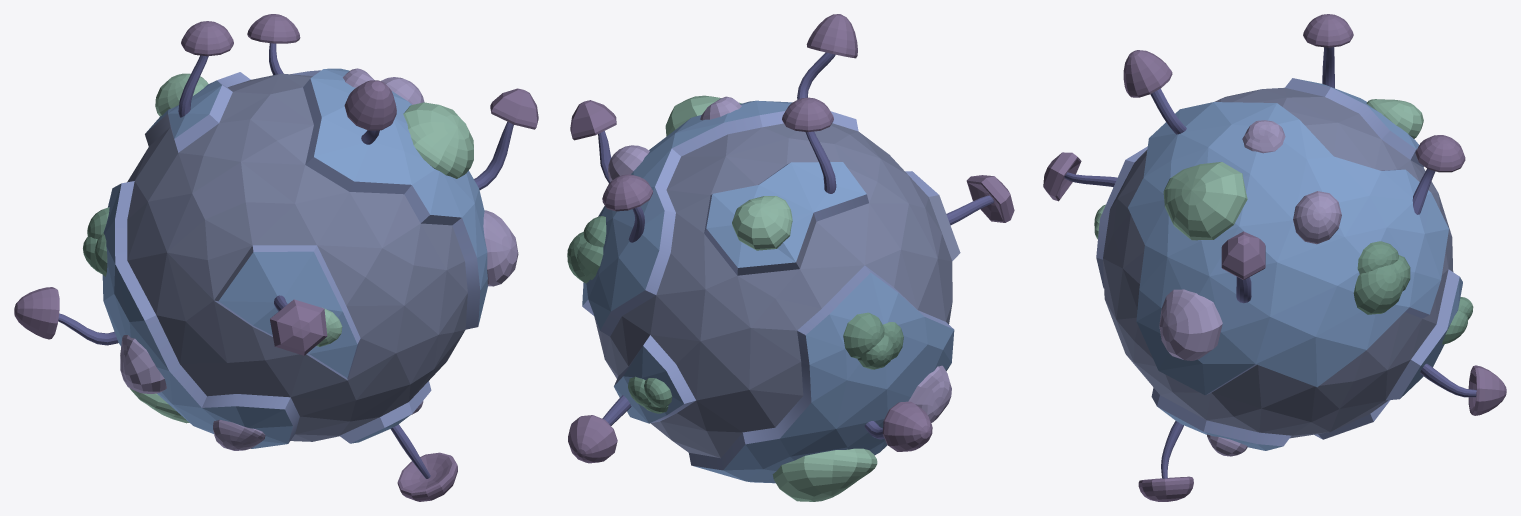
The model's file is Planet_002.fbx.
3 renders of one model, left to right at view 1: azimuth 30°, elevation 25°; view 2: azimuth 150°, elevation 25°; view 3: azimuth 270°, elevation 25°, orthographic. The views are drawn at different scales.
Visible parts, largest first — view 1: Planet_002; view 2: Planet_002; view 3: Planet_002.
Boxes of the visible parts, x1,y1,x2,y2 form: Planet_002: (14,14,538,501); Planet_002: (567,14,1014,501); Planet_002: (1043,14,1506,501).
Bounding box in the file's own units: 27.72 × 26.42 × 26.2.
